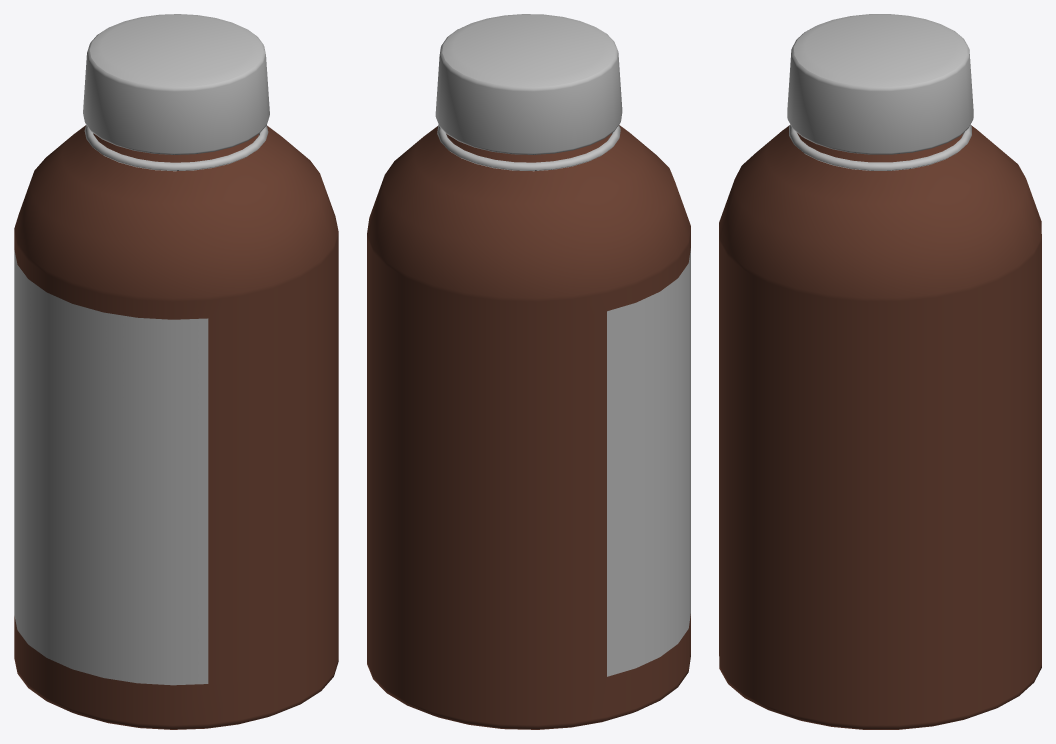
File: prop3.fbx
3 views of the same model, side by side, from view 1: azimuth 30°, elevation 25°; view 2: azimuth 150°, elevation 25°; view 3: azimuth 270°, elevation 25° (orthographic).
Visible parts, largest first — view 1: ds1841, ds1840; view 2: ds1841, ds1840; view 3: ds1841, ds1840.
Part boxes in pixels (x1,y1,x2,y2): ds1841: [14, 125, 338, 729]; ds1840: [14, 14, 269, 685]; ds1841: [367, 125, 690, 729]; ds1840: [435, 14, 690, 676]; ds1841: [719, 125, 1041, 729]; ds1840: [787, 14, 973, 170].
Bounding box in the file's own units: 6.05 × 12.8 × 6.05.
